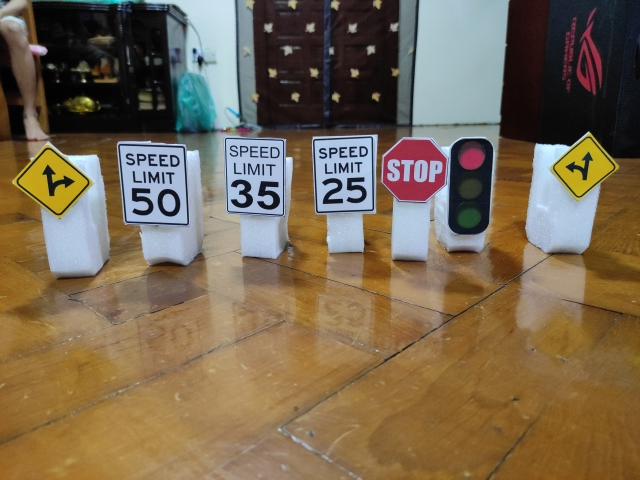Red Traffic Light: (449, 137, 494, 236)
Speed Limit 25: (312, 136, 377, 214)
Speed Limit 35: (223, 134, 287, 218)
Speed Limit 50: (116, 142, 192, 226)
Stop Sign: (381, 136, 449, 204)
Straight Or Left Sign: (552, 135, 617, 199)
Straight Or Right Sign: (14, 145, 93, 218)
